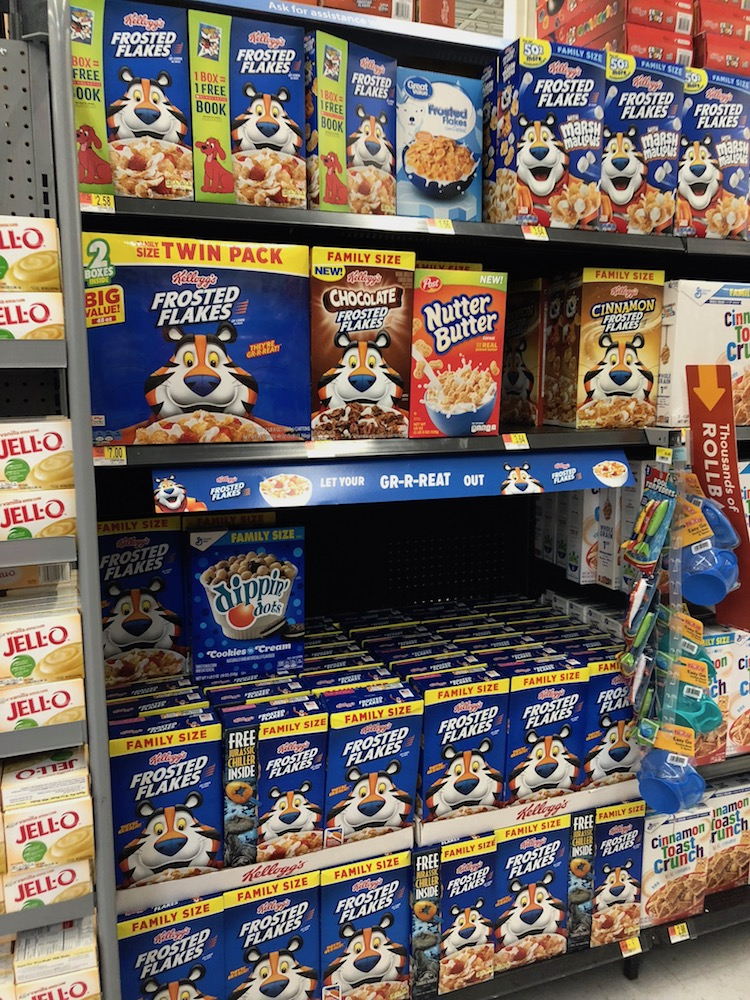Dippin Dots Cookies & Cream -568929378: (182, 530, 310, 698)
Nutter Butter-565717511: (413, 266, 513, 450)
